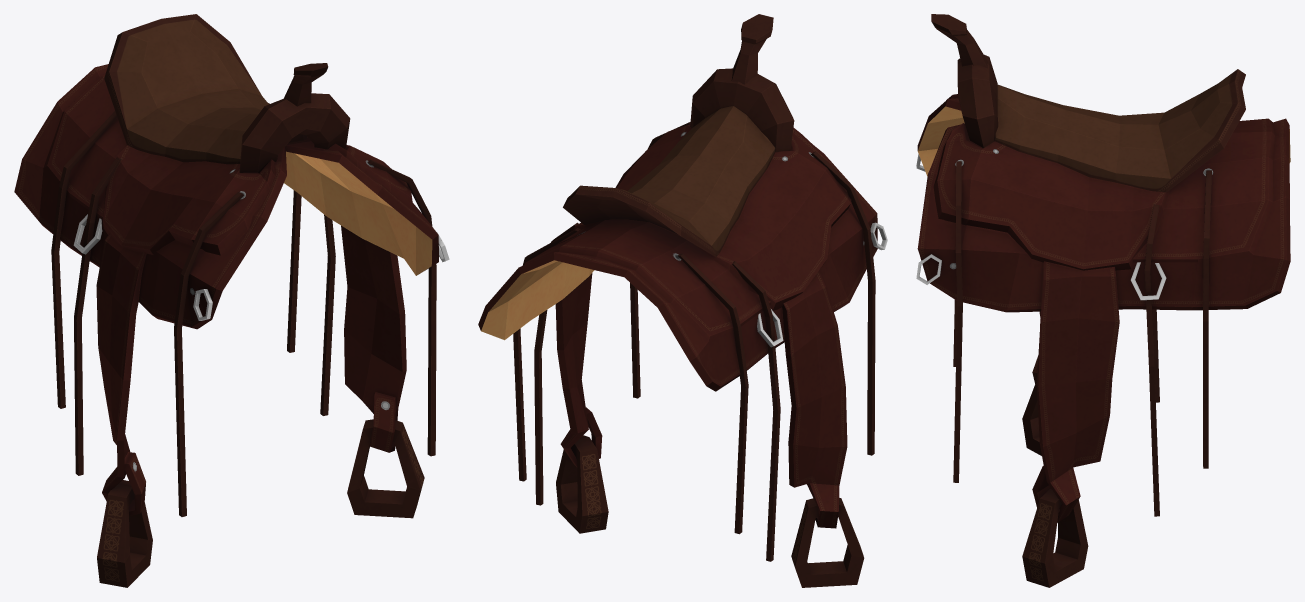
File: aa2e4197-751b-4d0d-a675-a9f6efcd928d.glb
3 renders of one model, left to right at view 1: azimuth 30°, elevation 25°; view 2: azimuth 150°, elevation 25°; view 3: azimuth 270°, elevation 25°, orthographic. The views are drawn at different scales.
Parts seen in each view (by area): view 1: Saddle_Mesh; view 2: Saddle_Mesh; view 3: Saddle_Mesh.
Boxes of the visible parts, x1,y1,x2,y2 form: Saddle_Mesh: [14, 14, 449, 587]; Saddle_Mesh: [478, 14, 887, 587]; Saddle_Mesh: [916, 14, 1290, 587].
Size of the model in its own units: 2.42 by 3.67 by 2.51.
Materials: 1 (1 with a texture image).
